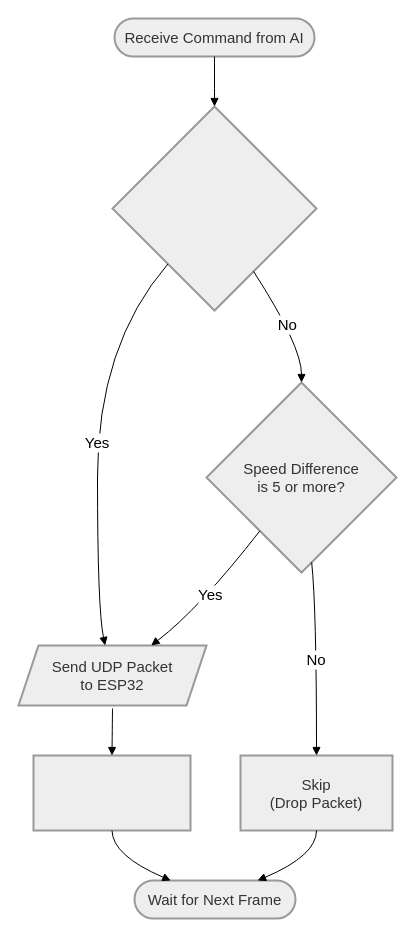
This 414x936 diagram has some shape labels left out. The centre of each missing label's shape, as x and y in pixels:
"Direction Changed? (Example: W to L)" goes at (214,208).
"Update: last_command" goes at (111,792).
